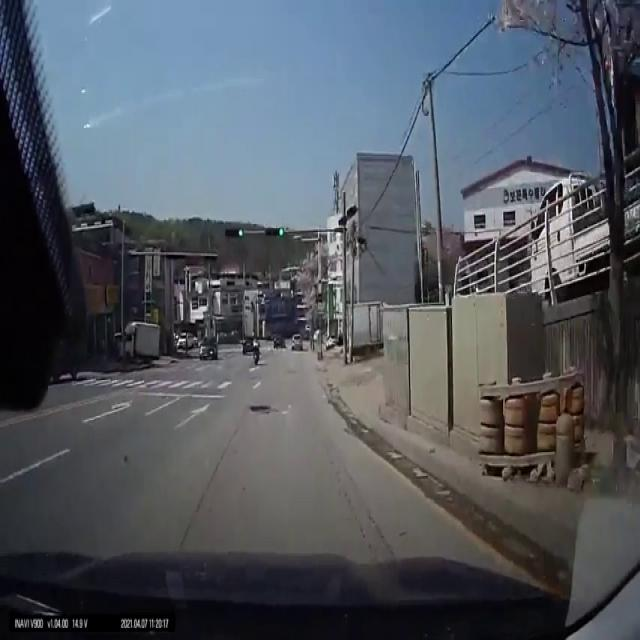Pothole: (250, 403, 272, 412)
